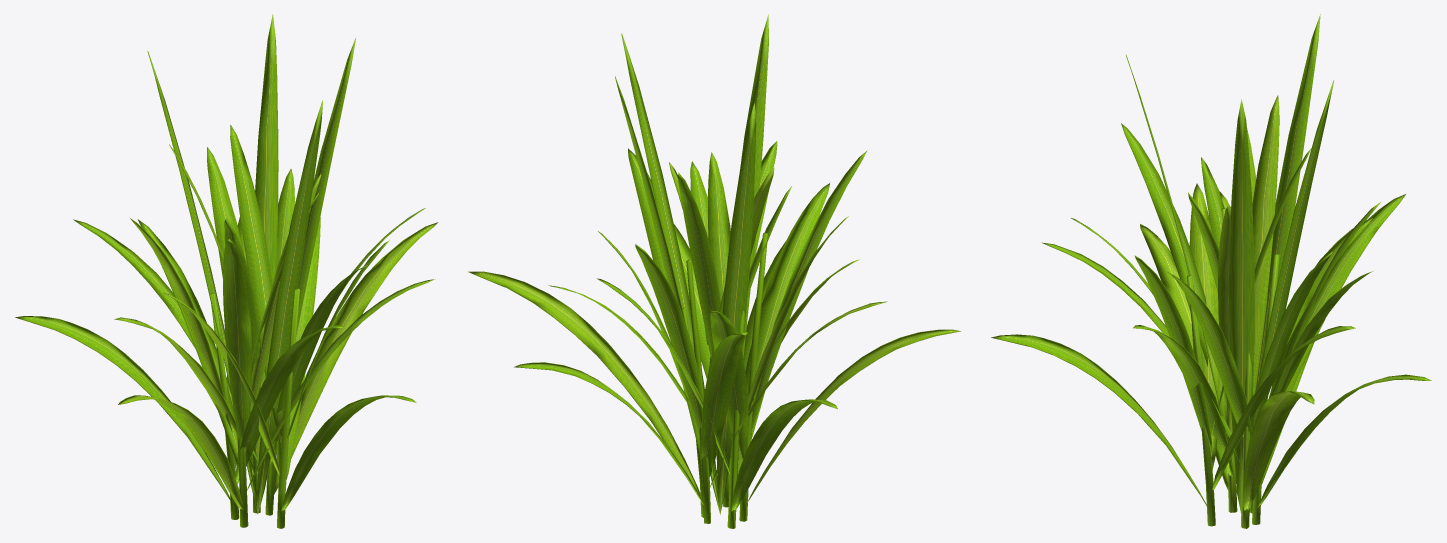
The model's file is NP_Wheat_Young_LOD1.fbx.
The picture shows the model from 3 angles, left to right: view 1: azimuth 30°, elevation 25°; view 2: azimuth 150°, elevation 25°; view 3: azimuth 270°, elevation 25°; orthographic projection. The views are drawn at different scales.
Visible parts, largest first — view 1: NP_Wheat_Young; view 2: NP_Wheat_Young; view 3: NP_Wheat_Young.
Boxes of the visible parts, <box> form: NP_Wheat_Young: <box>15,14,438,528</box>; NP_Wheat_Young: <box>468,14,960,528</box>; NP_Wheat_Young: <box>991,14,1431,528</box>.
Size of the model in its own units: 73 by 78.63 by 66.93.
